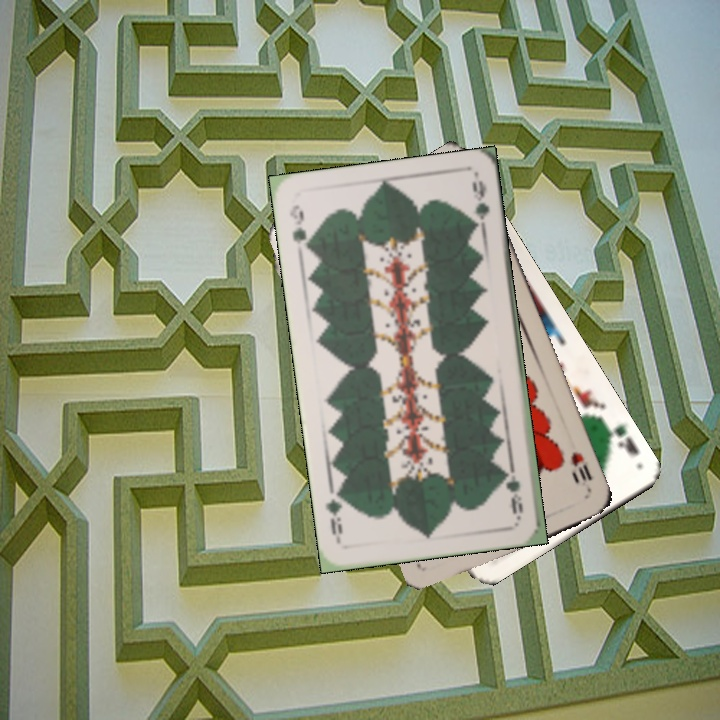G9: (285, 200, 313, 255), (504, 461, 526, 521)
GK: (598, 416, 642, 458)
H10: (566, 448, 595, 496)
